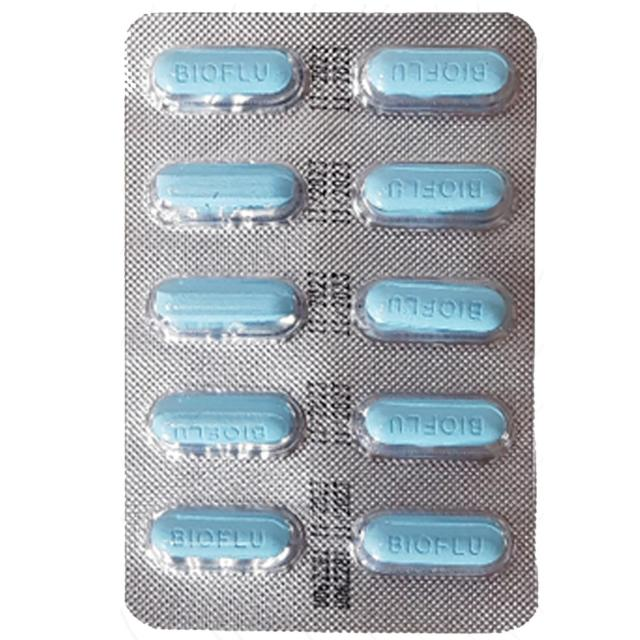blister: (118, 7, 546, 636)
